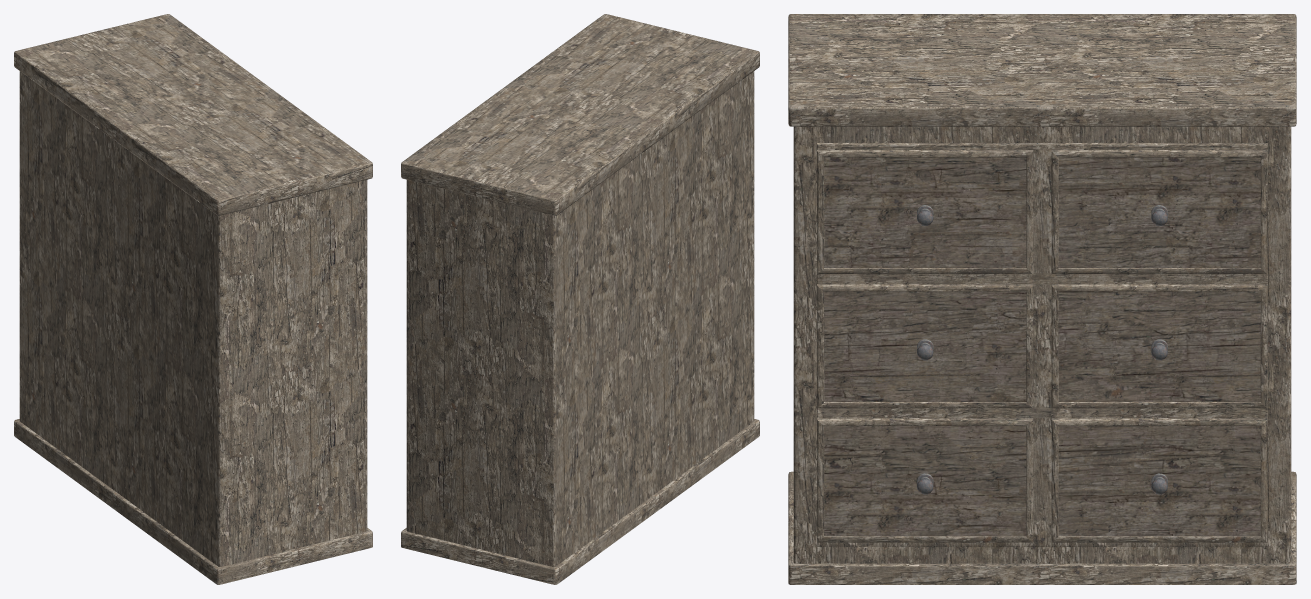
Rendered from Shelf.FBX.
The picture shows the model from 3 angles, left to right: view 1: azimuth 30°, elevation 25°; view 2: azimuth 150°, elevation 25°; view 3: azimuth 270°, elevation 25°; orthographic projection. The views are drawn at different scales.
Visible parts, largest first — view 1: Base; view 2: Base; view 3: Base, Shelf1, Shelf2, Shelf3, Shelf4, Shelf5, Shelf6.
Boxes of the visible parts, left/top/right/bottom form: Base: left=14, top=14, right=372, bottom=584; Base: left=401, top=14, right=759, bottom=584; Base: left=788, top=14, right=1296, bottom=584; Shelf1: left=824, top=157, right=1026, bottom=267; Shelf2: left=1058, top=157, right=1260, bottom=267; Shelf3: left=824, top=291, right=1026, bottom=401; Shelf4: left=1058, top=291, right=1260, bottom=401; Shelf5: left=824, top=426, right=1026, bottom=536; Shelf6: left=1058, top=426, right=1260, bottom=536.
Bounding box in the file's own units: 135 × 291 × 281.
